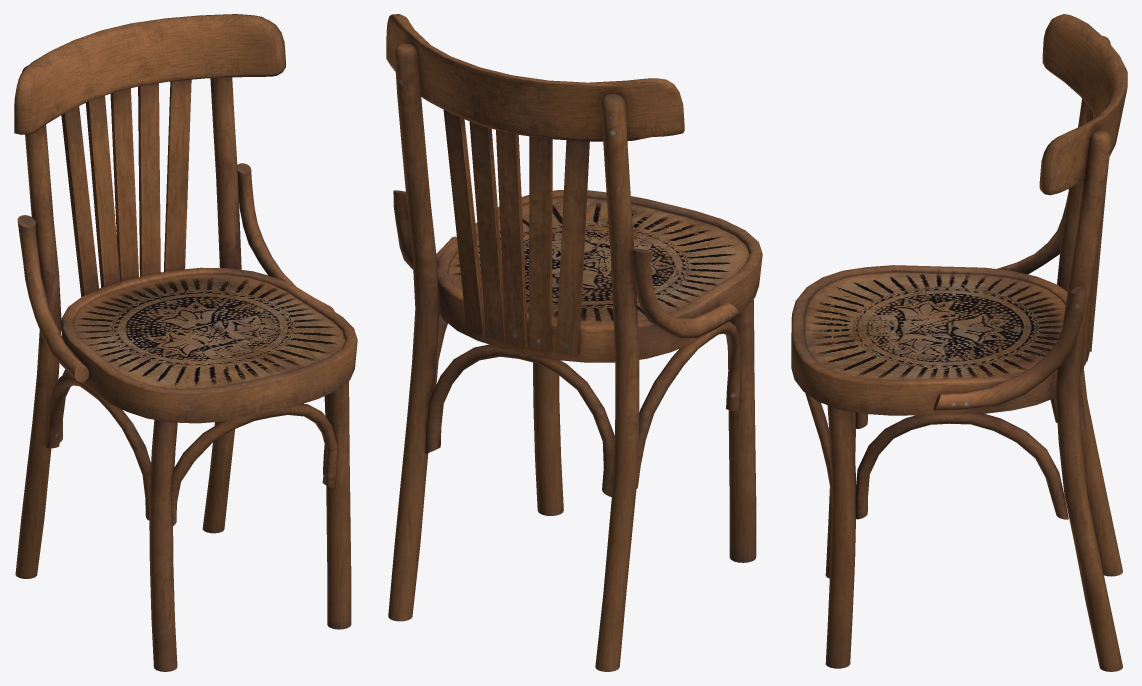
The model's file is chair4-transformed.glb.
3 views of the same model, side by side, from view 1: azimuth 30°, elevation 25°; view 2: azimuth 150°, elevation 25°; view 3: azimuth 270°, elevation 25° (orthographic). The views are drawn at different scales.
Parts seen in each view (by area): view 1: chair_chair_0; view 2: chair_chair_0; view 3: chair_chair_0.
Part boxes in pixels (x1,y1,x2,y2): chair_chair_0: [14, 14, 357, 671]; chair_chair_0: [386, 14, 762, 671]; chair_chair_0: [791, 14, 1127, 671].
Bounding box in the file's own units: 0.4932 × 0.909 × 0.5085.
Materials: 1 (1 with a texture image).
